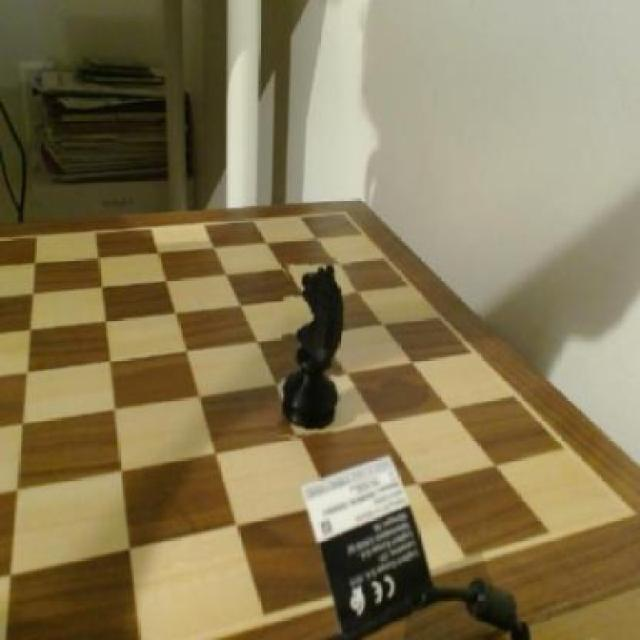black-king: (278, 255, 348, 442)
